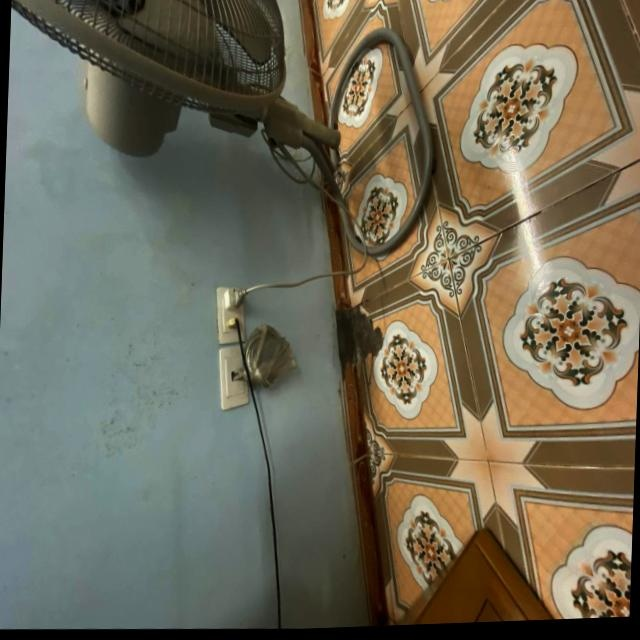outlet: (216, 342, 251, 411), (213, 284, 247, 345)
